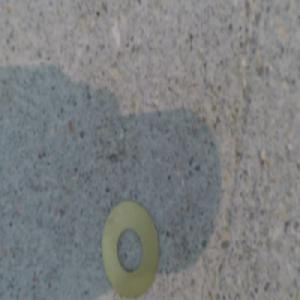Washer: (101, 195, 161, 291)
